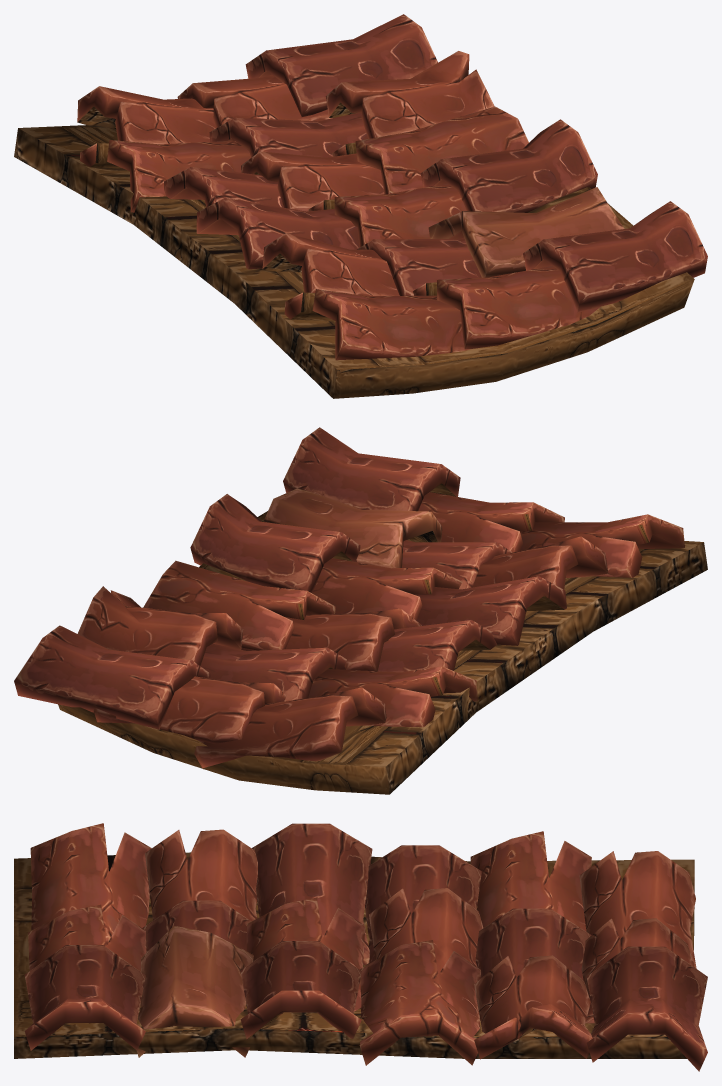
Rendered from roof_canopy.fbx.
The picture shows the model from 3 angles, top to bottom: view 1: azimuth 30°, elevation 25°; view 2: azimuth 150°, elevation 25°; view 3: azimuth 270°, elevation 25°; orthographic projection. The views are drawn at different scales.
Parts seen in each view (by area): view 1: roof_canopy; view 2: roof_canopy; view 3: roof_canopy.
Part boxes in pixels (left/top/right/bottom): roof_canopy: left=14, top=14, right=707, bottom=398; roof_canopy: left=14, top=427, right=707, bottom=794; roof_canopy: left=14, top=823, right=707, bottom=1071.
Size of the model in its own units: 134 by 34.06 by 196.
